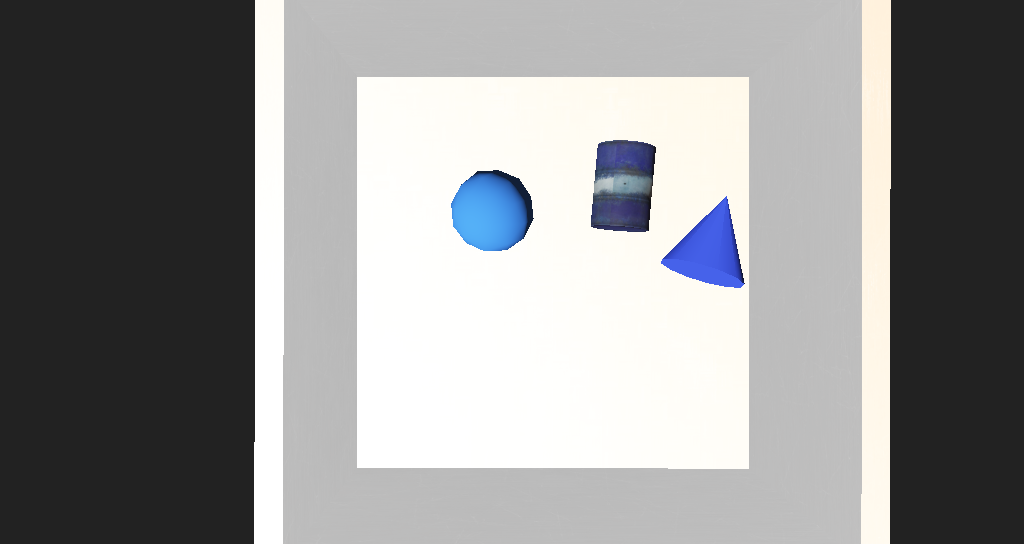cone: (532, 198, 586, 251)
cylinder: (579, 217, 674, 279)
sphere: (424, 210, 492, 258)
